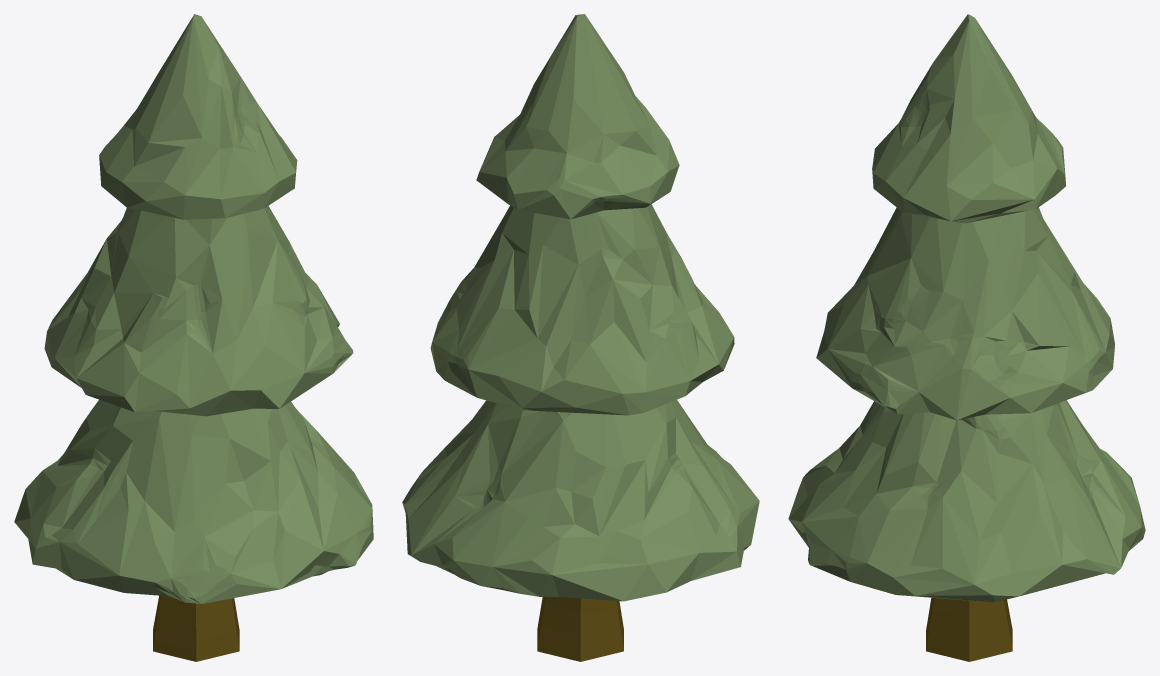
Rendered from pinetree.glb.
The picture shows the model from 3 angles, left to right: view 1: azimuth 30°, elevation 25°; view 2: azimuth 150°, elevation 25°; view 3: azimuth 270°, elevation 25°; orthographic projection.
Visible parts, largest first — view 1: pCylinder1, pCylinder2; view 2: pCylinder1, pCylinder2; view 3: pCylinder1, pCylinder2.
Part boxes in pixels (<box>): pCylinder1: <box>14,14,373,604</box>; pCylinder2: <box>153,595,239,661</box>; pCylinder1: <box>402,14,759,601</box>; pCylinder2: <box>537,597,623,661</box>; pCylinder1: <box>788,14,1145,602</box>; pCylinder2: <box>926,597,1012,661</box>.
Size of the model in its own units: 0.0165 by 0.031 by 0.016.
